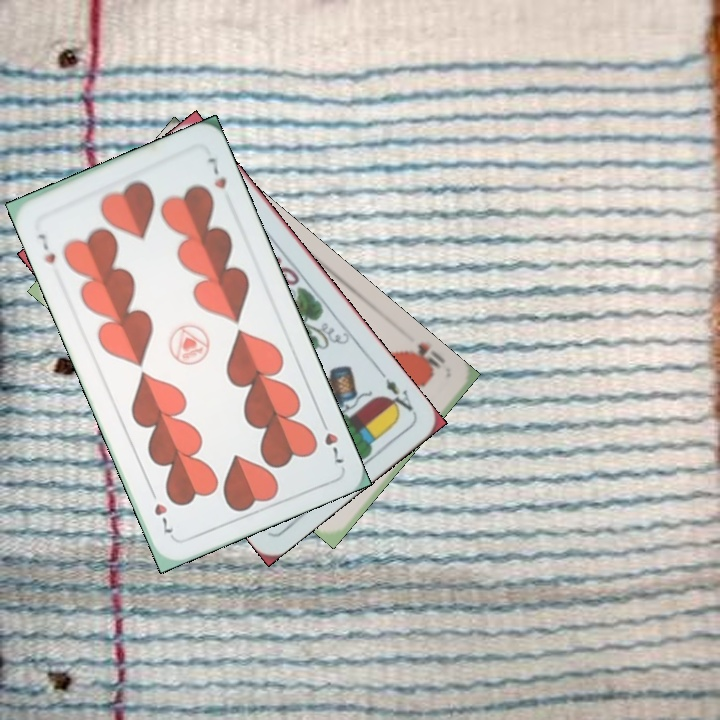EA: (379, 374, 418, 418)
H7: (316, 412, 346, 466), (34, 229, 58, 267)
HO: (400, 338, 448, 378)
